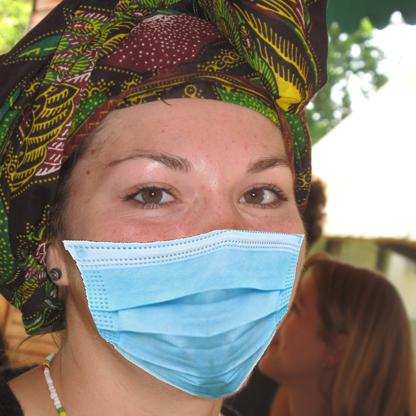mask: (52, 229, 306, 402)
